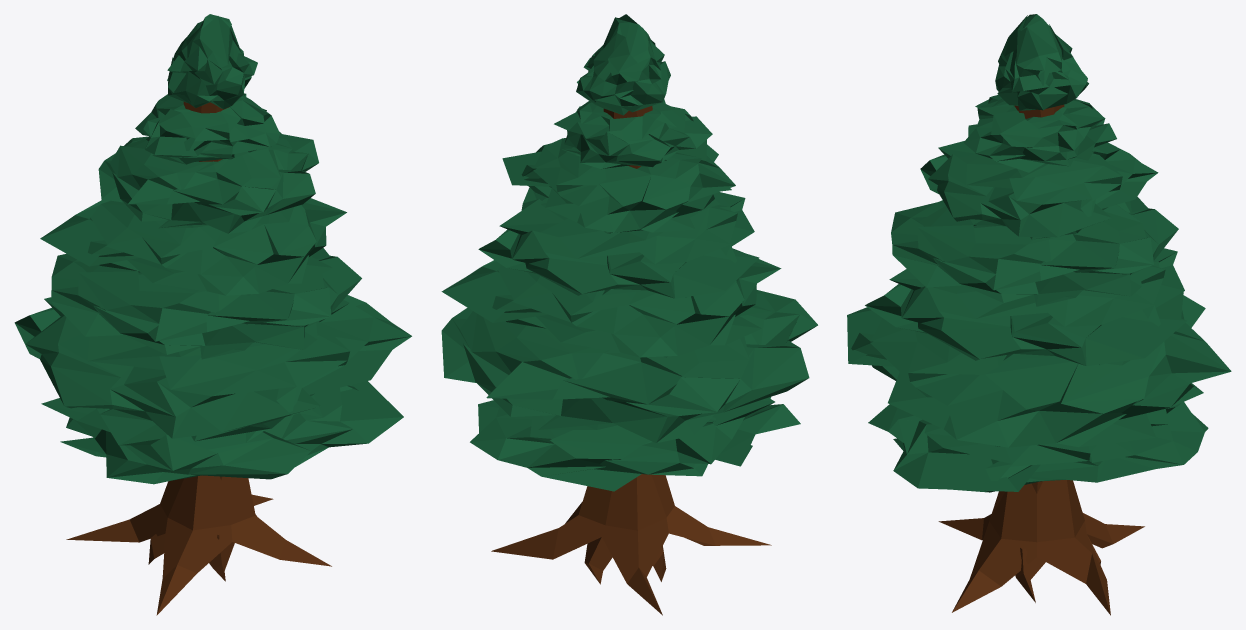
The model's file is spruce tree.fbx.
The picture shows the model from 3 angles, left to right: view 1: azimuth 30°, elevation 25°; view 2: azimuth 150°, elevation 25°; view 3: azimuth 270°, elevation 25°; orthographic projection. The views are drawn at different scales.
Parts seen in each view (by area): view 1: Icosphere.001, Icosphere.002, Icosphere.003, Icosphere, Icosphere.004, stomp, Icosphere.005, Icosphere.006; view 2: Icosphere.001, Icosphere.003, Icosphere.002, Icosphere, Icosphere.004, stomp, Icosphere.005, Icosphere.006; view 3: Icosphere.001, Icosphere.003, Icosphere.002, Icosphere, Icosphere.004, stomp, Icosphere.005, Icosphere.006.
Boxes of the visible parts, x1,y1,x2,y2 form: Icosphere.001: [14, 295, 411, 441]; Icosphere.002: [51, 248, 361, 359]; Icosphere.003: [40, 198, 346, 295]; Icosphere: [41, 381, 403, 484]; Icosphere.004: [98, 134, 318, 233]; stomp: [66, 102, 331, 615]; Icosphere.005: [135, 93, 281, 164]; Icosphere.006: [167, 14, 257, 109]; Icosphere.001: [441, 290, 817, 443]; Icosphere.003: [478, 187, 759, 298]; Icosphere.002: [441, 248, 781, 357]; Icosphere: [470, 397, 800, 491]; Icosphere.004: [502, 138, 735, 233]; stomp: [491, 106, 771, 615]; Icosphere.005: [554, 99, 712, 169]; Icosphere.006: [576, 14, 670, 115]; Icosphere.001: [847, 292, 1231, 447]; Icosphere.003: [891, 196, 1178, 306]; Icosphere.002: [865, 248, 1187, 365]; Icosphere: [868, 402, 1208, 492]; Icosphere.004: [920, 141, 1158, 239]; stomp: [938, 104, 1144, 615]; Icosphere.005: [963, 94, 1116, 172]; Icosphere.006: [995, 14, 1088, 110].
Size of the model in its own units: 711 by 1117 by 690.
